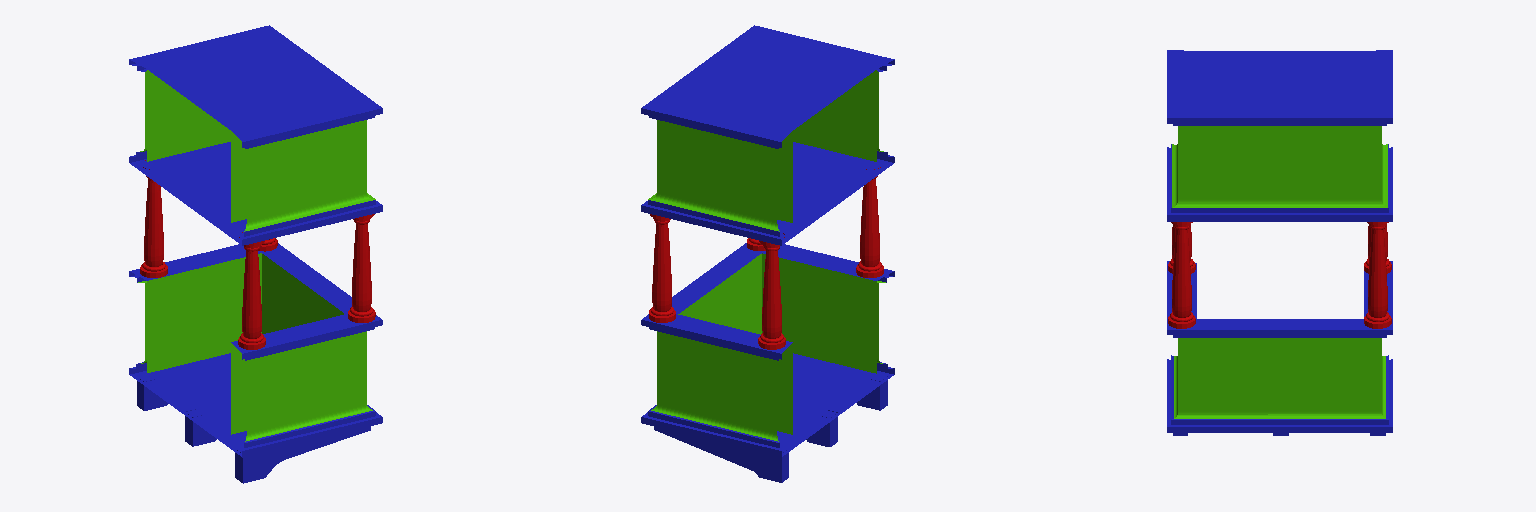
File: seaside_balcony 3.obj
3 views of the same model, side by side, from view 1: azimuth 30°, elevation 25°; view 2: azimuth 150°, elevation 25°; view 3: azimuth 270°, elevation 25° (orthographic).
Parts seen in each view (by area): view 1: Balc3_FREE_OBJ; view 2: Balc3_FREE_OBJ; view 3: Balc3_FREE_OBJ.
Boxes of the visible parts, <box> form: Balc3_FREE_OBJ: <box>129,25,382,483</box>; Balc3_FREE_OBJ: <box>641,25,894,482</box>; Balc3_FREE_OBJ: <box>1167,50,1392,435</box>.
Size of the model in its own units: 0.8422 by 1.98 by 1.18.